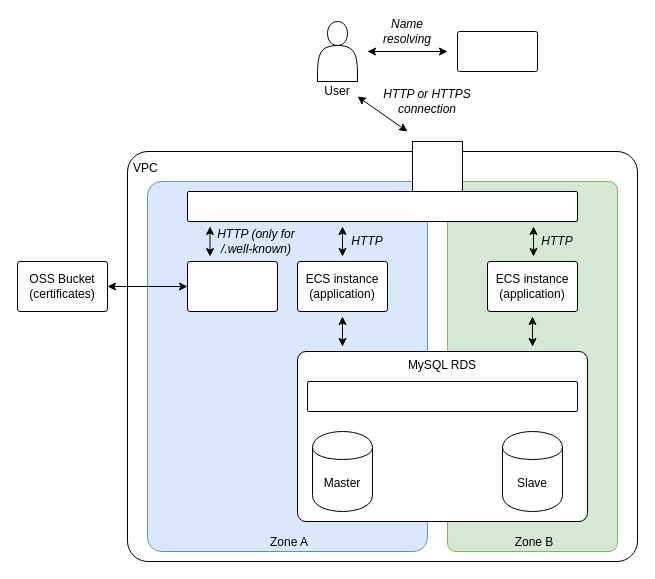
This 655x579 diagram has some shape labels left out. Here are the shapes that lost their labels. From the top down, the centre of each, then its label:
(497,51): DNS server
(437,166): EIP
(382,206): Server Load Balancer
(232,286): ECS instance (certificate manager)
(442,396): Internal Load Balancer
